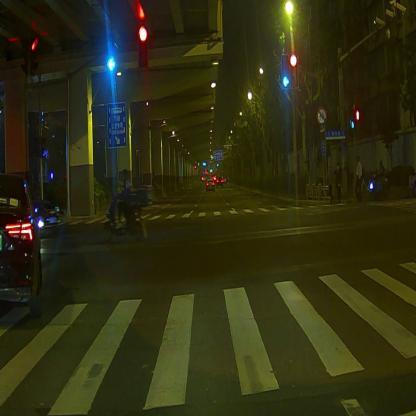Red Light: (138, 25, 149, 68), (288, 53, 298, 90)
